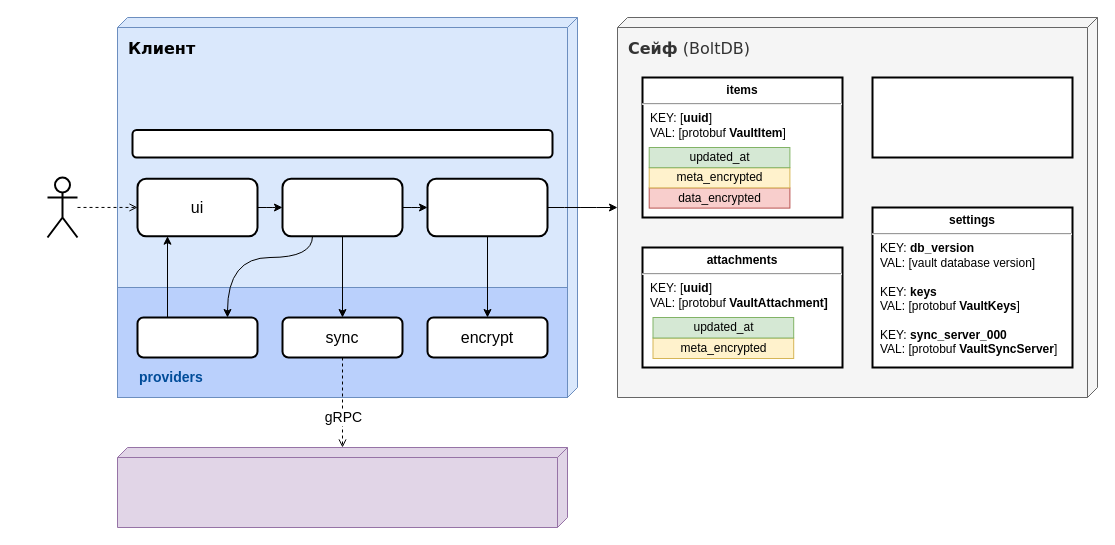
The diagram is 1115 pixels wide and 545 high, and some of its shapes have lost their labels. Each missing label, with the centre of its shape:
attachments_data KEY: [ uuid ] VAL: [encrypted file data]: the point at 972,117
config: the point at 342,143
masterpass: the point at 197,337
repo: the point at 487,207
usecases: the point at 342,207
Пользователь: the point at 62,207
Сервер: the point at 342,487
